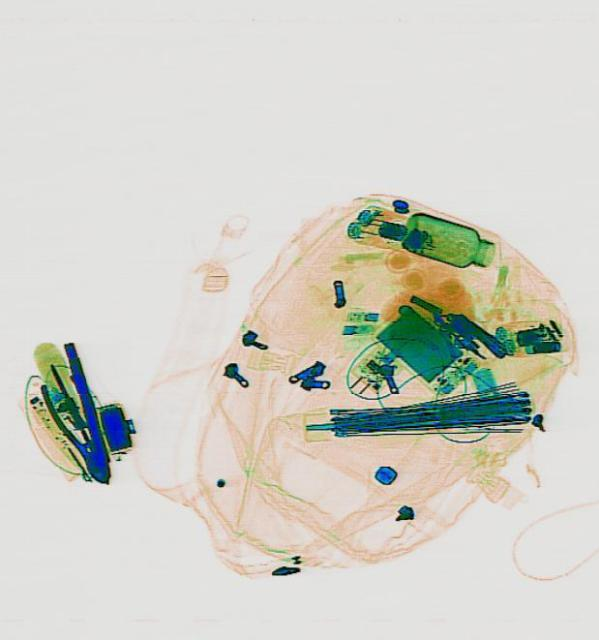Pliers: (35, 366, 129, 489)
